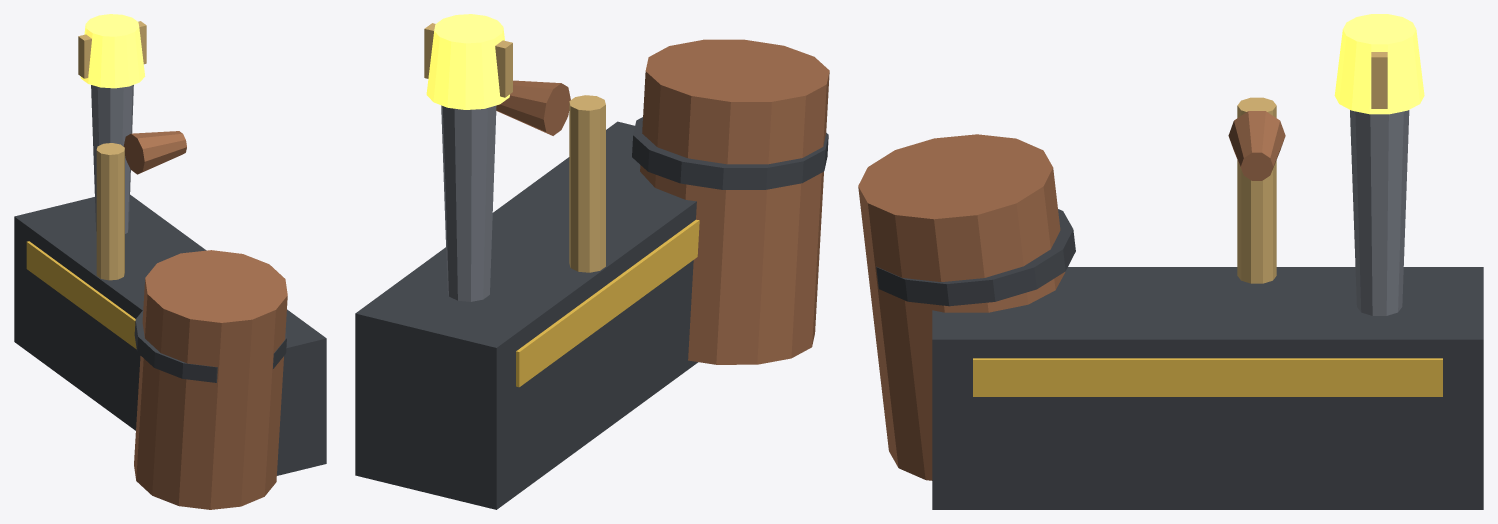
Rendered from prop_roadside_hazard.glb.
3 renders of one model, left to right at view 1: azimuth 30°, elevation 25°; view 2: azimuth 150°, elevation 25°; view 3: azimuth 270°, elevation 25°, orthographic. The views are drawn at different scales.
Visible parts, largest first — view 1: ScrapDrumA, RoadsideJerseyBlock, SteamStandPipe, GyroDome, RoadsideHazardStripe, BeaconPedestalPost, SteamValveHead, ScrapDrumRim, GyroReflectorFin; view 2: RoadsideJerseyBlock, ScrapDrumA, BeaconPedestalPost, RoadsideHazardStripe, SteamStandPipe, GyroDome, ScrapDrumRim, SteamValveHead, GyroReflectorFin; view 3: RoadsideJerseyBlock, ScrapDrumA, RoadsideHazardStripe, BeaconPedestalPost, GyroDome, ScrapDrumRim, SteamStandPipe, SteamValveHead, GyroReflectorFin.
Part boxes in pixels (x1,y1,x2,y2): ScrapDrumA: [134, 250, 287, 509]; RoadsideJerseyBlock: [14, 194, 326, 475]; SteamStandPipe: [96, 143, 124, 280]; GyroDome: [80, 14, 145, 88]; RoadsideHazardStripe: [26, 241, 136, 349]; BeaconPedestalPost: [91, 85, 133, 233]; SteamValveHead: [123, 131, 186, 174]; ScrapDrumRim: [134, 310, 286, 382]; GyroReflectorFin: [78, 21, 146, 78]; RoadsideJerseyBlock: [355, 121, 698, 509]; ScrapDrumA: [640, 39, 829, 364]; BeaconPedestalPost: [441, 105, 496, 301]; RoadsideHazardStripe: [516, 219, 699, 387]; SteamStandPipe: [569, 95, 605, 272]; GyroDome: [426, 14, 509, 109]; ScrapDrumRim: [632, 117, 828, 189]; SteamValveHead: [496, 80, 570, 135]; GyroReflectorFin: [424, 23, 512, 97]; RoadsideJerseyBlock: [932, 267, 1483, 509]; ScrapDrumA: [858, 134, 1065, 480]; RoadsideHazardStripe: [973, 358, 1442, 396]; BeaconPedestalPost: [1350, 110, 1409, 315]; GyroDome: [1334, 14, 1424, 114]; ScrapDrumRim: [876, 209, 1075, 306]; SteamStandPipe: [1237, 97, 1276, 283]; SteamValveHead: [1228, 111, 1285, 180]; GyroReflectorFin: [1371, 52, 1387, 108].
Bounding box in the file's own units: 0.6486 × 1.23 × 1.53.
